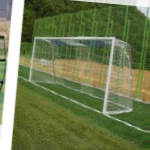goals: (27, 34, 135, 117)
